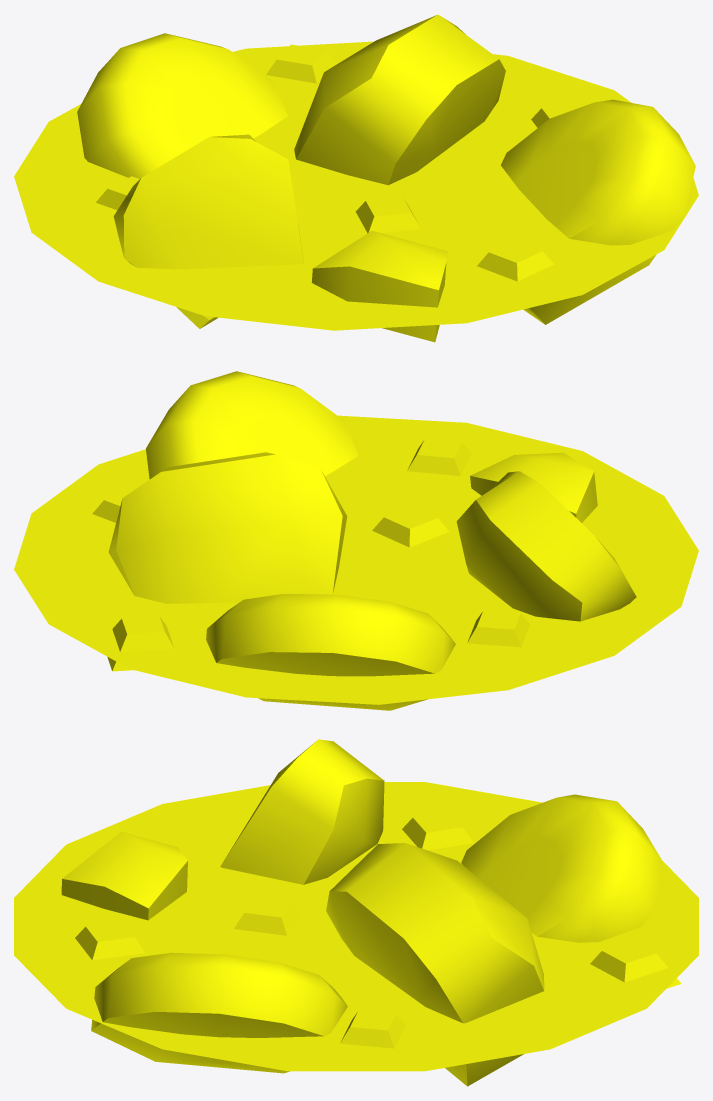
File: kaykit-stew-pot.glb
3 renders of one model, top to bottom at view 1: azimuth 30°, elevation 25°; view 2: azimuth 150°, elevation 25°; view 3: azimuth 270°, elevation 25°, orthographic.
Visible parts, largest first — view 1: stew_pot; view 2: stew_pot; view 3: stew_pot.
Boxes of the visible parts, <box> form: stew_pot: <box>14,14,698,342</box>; stew_pot: <box>14,371,698,710</box>; stew_pot: <box>14,739,698,1086</box>.
Size of the model in its own units: 0.737 by 0.25 by 0.737.
